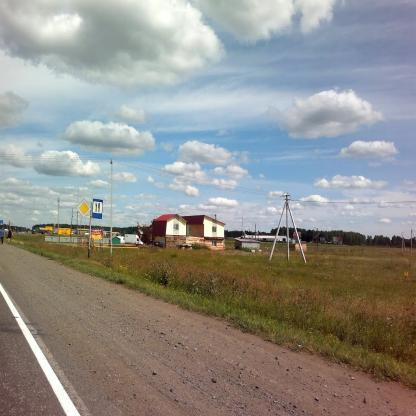road_sign: (92, 199, 103, 219), (79, 199, 90, 215)
